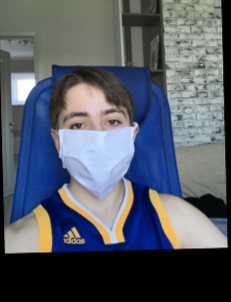with_mask: (56, 106, 136, 199)
